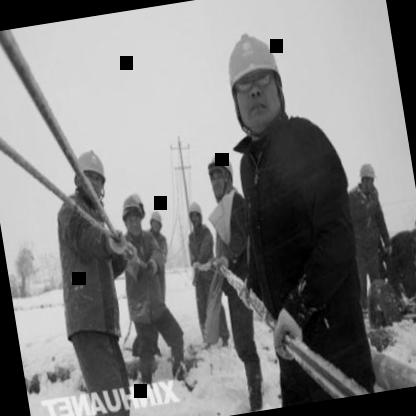helmet: (216, 21, 296, 144), (74, 146, 112, 201), (204, 146, 240, 202), (116, 188, 148, 238), (356, 160, 380, 196), (184, 197, 206, 230), (146, 210, 166, 235)
